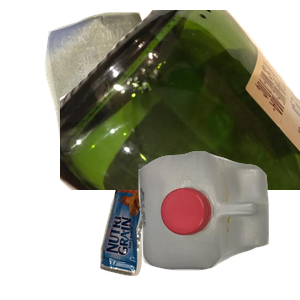glass: (60, 10, 300, 190)
paper: (43, 10, 221, 185)
plastic: (136, 149, 300, 300)
trash: (97, 152, 248, 300)
